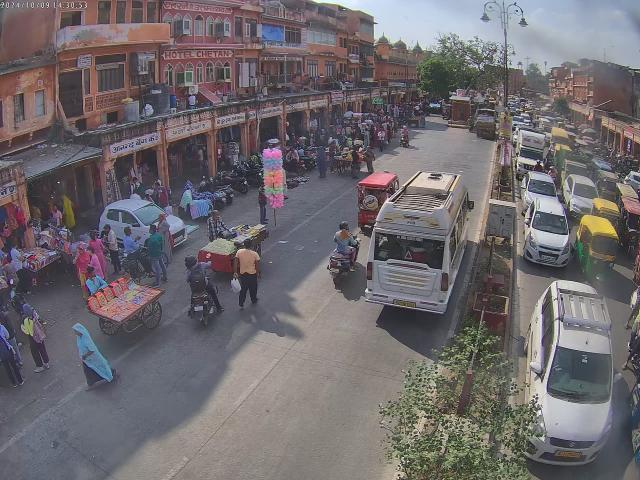auto: (576, 215, 620, 277), (354, 170, 400, 227), (618, 194, 640, 258)
bus: (364, 171, 474, 314)
car: (522, 275, 616, 471), (520, 198, 572, 270), (564, 174, 598, 216), (524, 171, 556, 196)
helmet: (184, 253, 198, 270), (338, 220, 350, 230)
license_plate: (554, 448, 584, 460), (394, 300, 416, 308), (542, 255, 556, 262), (329, 267, 339, 274), (193, 306, 204, 312)
lorry: (515, 130, 547, 174), (474, 116, 497, 140)
motorbike-rider: (186, 257, 222, 326)
person: (72, 322, 114, 388), (18, 299, 50, 370), (233, 237, 260, 308), (81, 265, 109, 303), (73, 244, 96, 280), (360, 146, 376, 172)
scooty-rider: (326, 219, 361, 287), (398, 124, 410, 146)
vendor: (94, 284, 164, 341)
